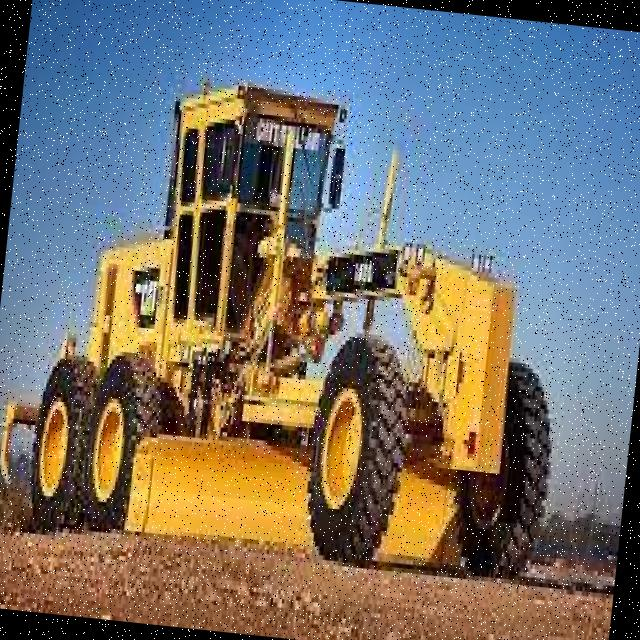Grader: (0, 20, 594, 612)
